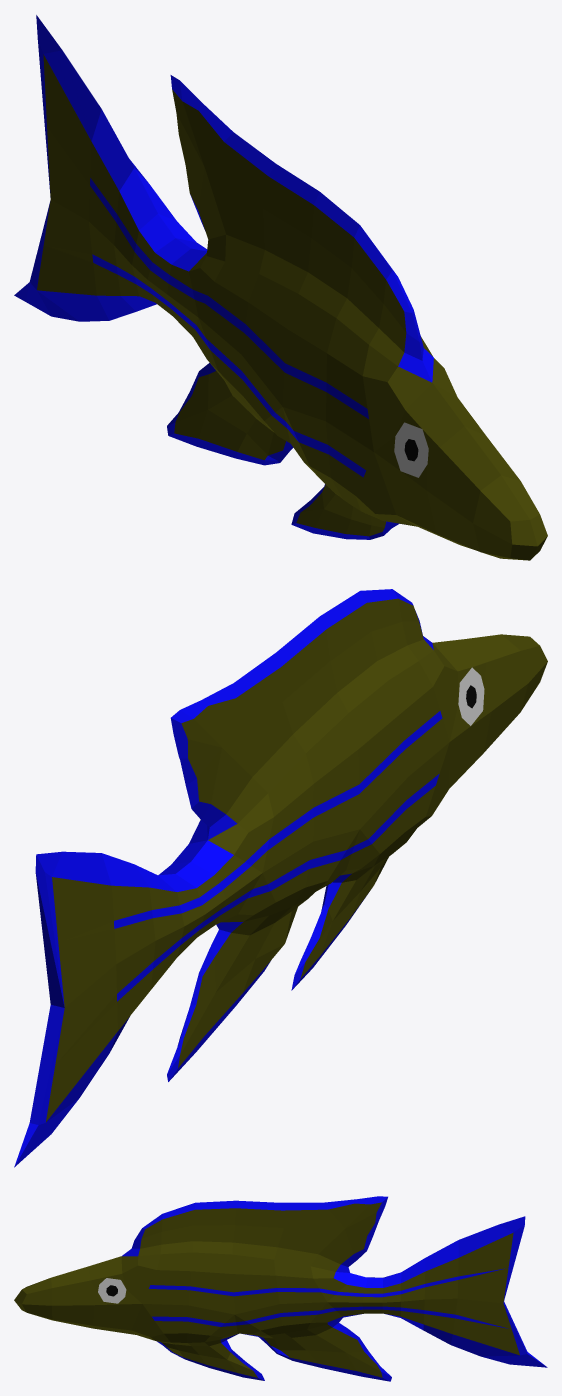
File: CICLIDEO-BLUE.fbx
3 views of the same model, one above another, from view 1: azimuth 30°, elevation 25°; view 2: azimuth 150°, elevation 25°; view 3: azimuth 270°, elevation 25° (orthographic). The views are drawn at different scales.
Parts seen in each view (by area): view 1: ciclideo; view 2: ciclideo; view 3: ciclideo.
Part boxes in pixels (x1,y1,x2,y2): ciclideo: (14,15,547,560); ciclideo: (14,589,547,1167); ciclideo: (14,1196,547,1381).
Bounding box in the file's own units: 0.0949 × 0.4015 × 1.05.
